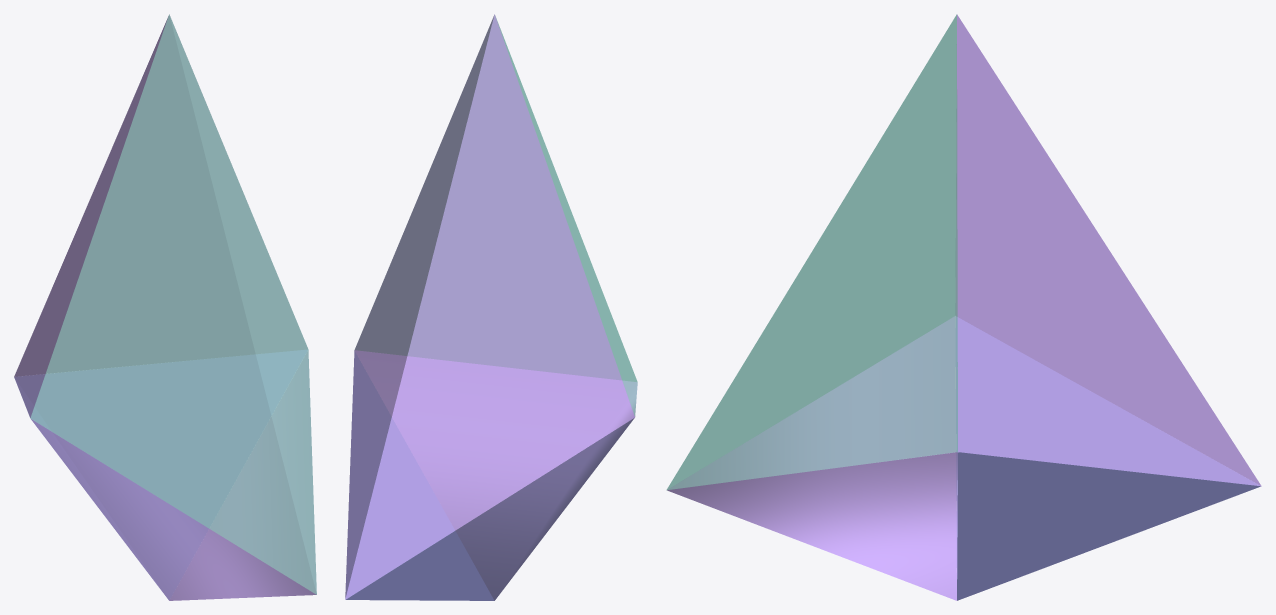
Rendered from prism.glb.
3 renders of one model, left to right at view 1: azimuth 30°, elevation 25°; view 2: azimuth 150°, elevation 25°; view 3: azimuth 270°, elevation 25°, orthographic.
Parts seen in each view (by area): view 1: Pyramid_3; view 2: Pyramid_3; view 3: Pyramid_3.
Part boxes in pixels (x1=…): Pyramid_3: x1=14, y1=14, x2=316, y2=600; Pyramid_3: x1=345, y1=14, x2=637, y2=600; Pyramid_3: x1=666, y1=14, x2=1261, y2=600.
Bounding box in the file's own units: 1.04 × 2.1 × 1.93.
